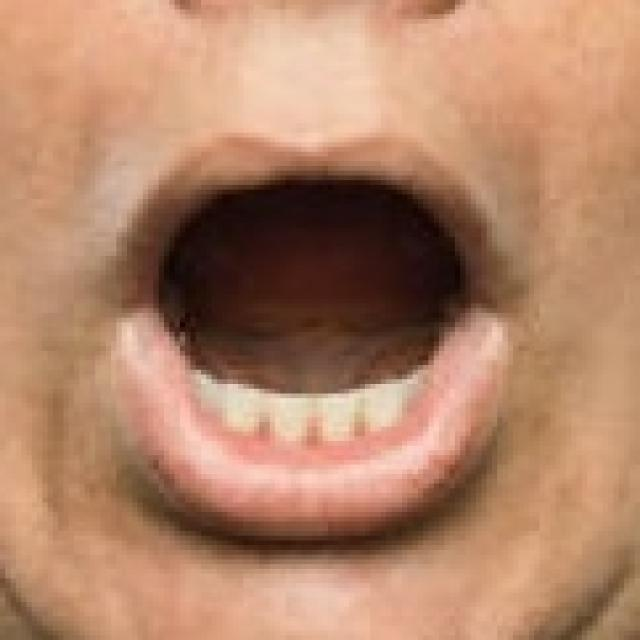open-mouth: (106, 124, 518, 540)
